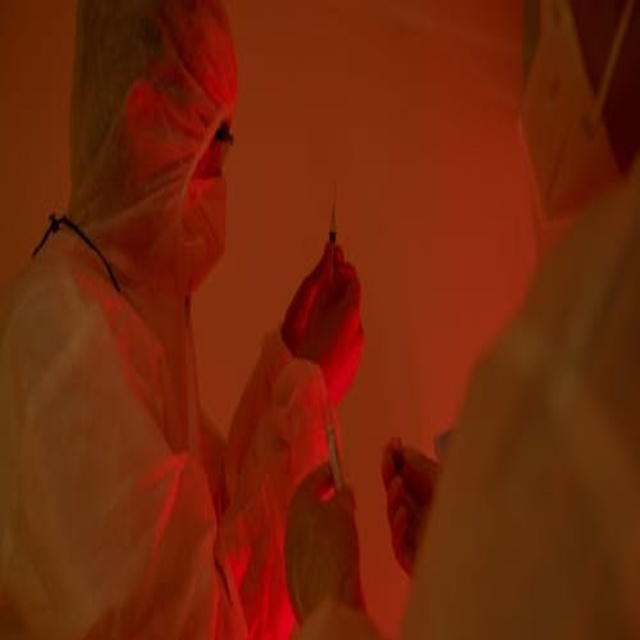Mascara: (508, 0, 625, 228), (174, 157, 242, 298)
